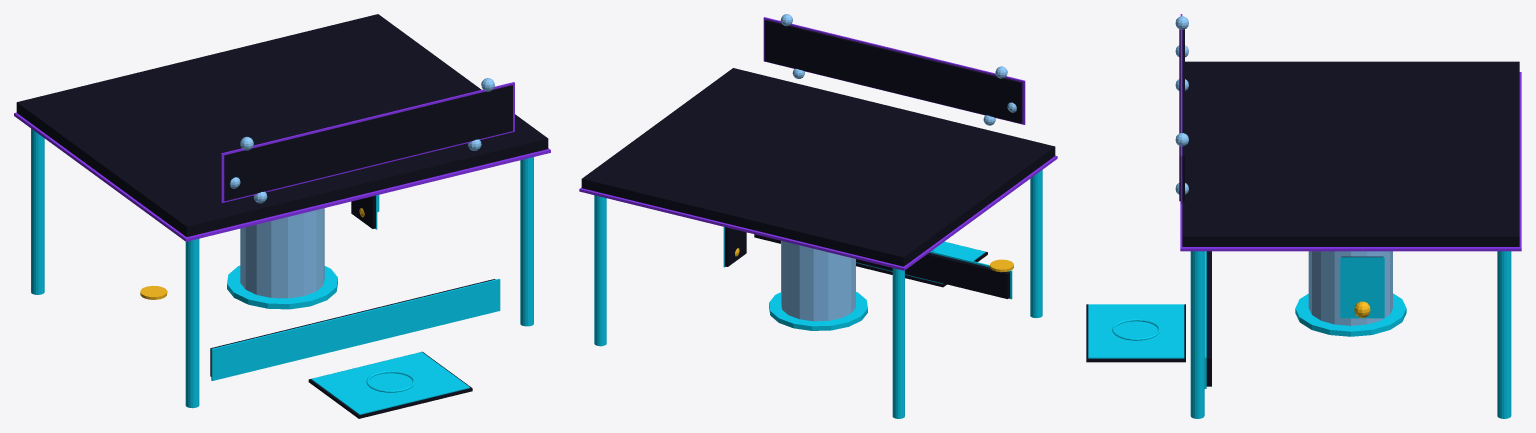
The model's file is bubble_shop.obj.
The picture shows the model from 3 angles, left to right: view 1: azimuth 30°, elevation 25°; view 2: azimuth 150°, elevation 25°; view 3: azimuth 270°, elevation 25°; orthographic projection. The views are drawn at different scales.
Size of the model in its own units: 10.9 by 7.48 by 11.35.
